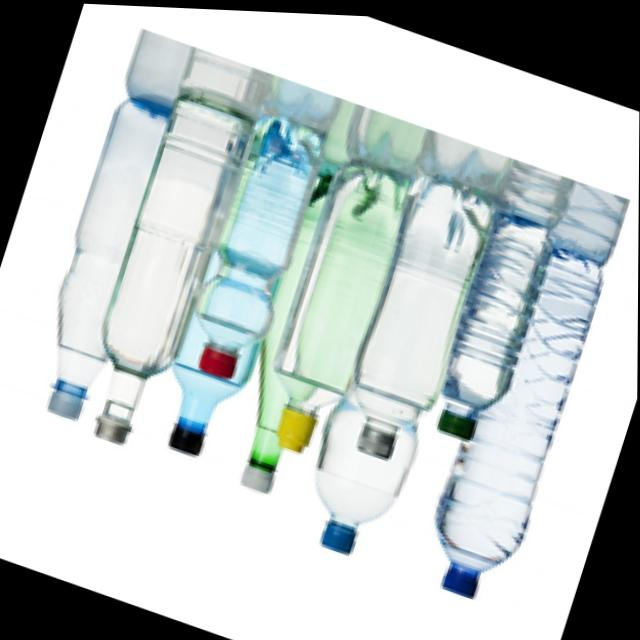plastic_water_bottles: (6, 70, 185, 436), (442, 236, 614, 614), (79, 94, 251, 459), (258, 161, 405, 457), (339, 189, 487, 473), (185, 119, 324, 395), (424, 197, 556, 446), (302, 444, 402, 561)
